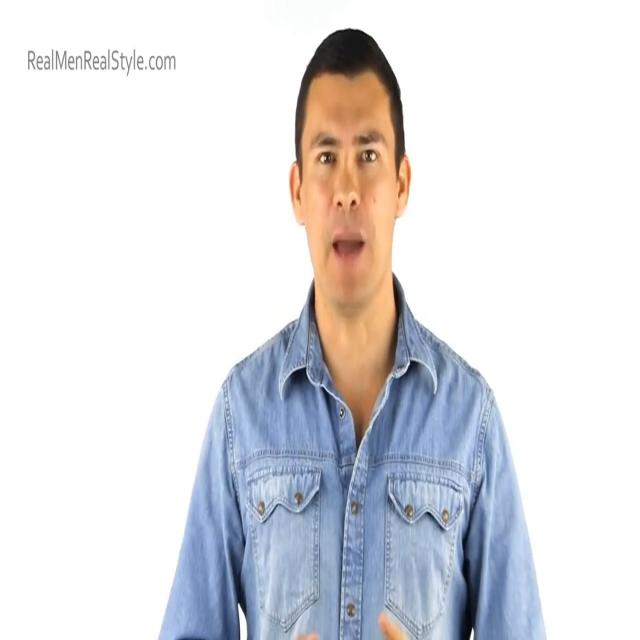Shirt: (155, 266, 546, 640)
